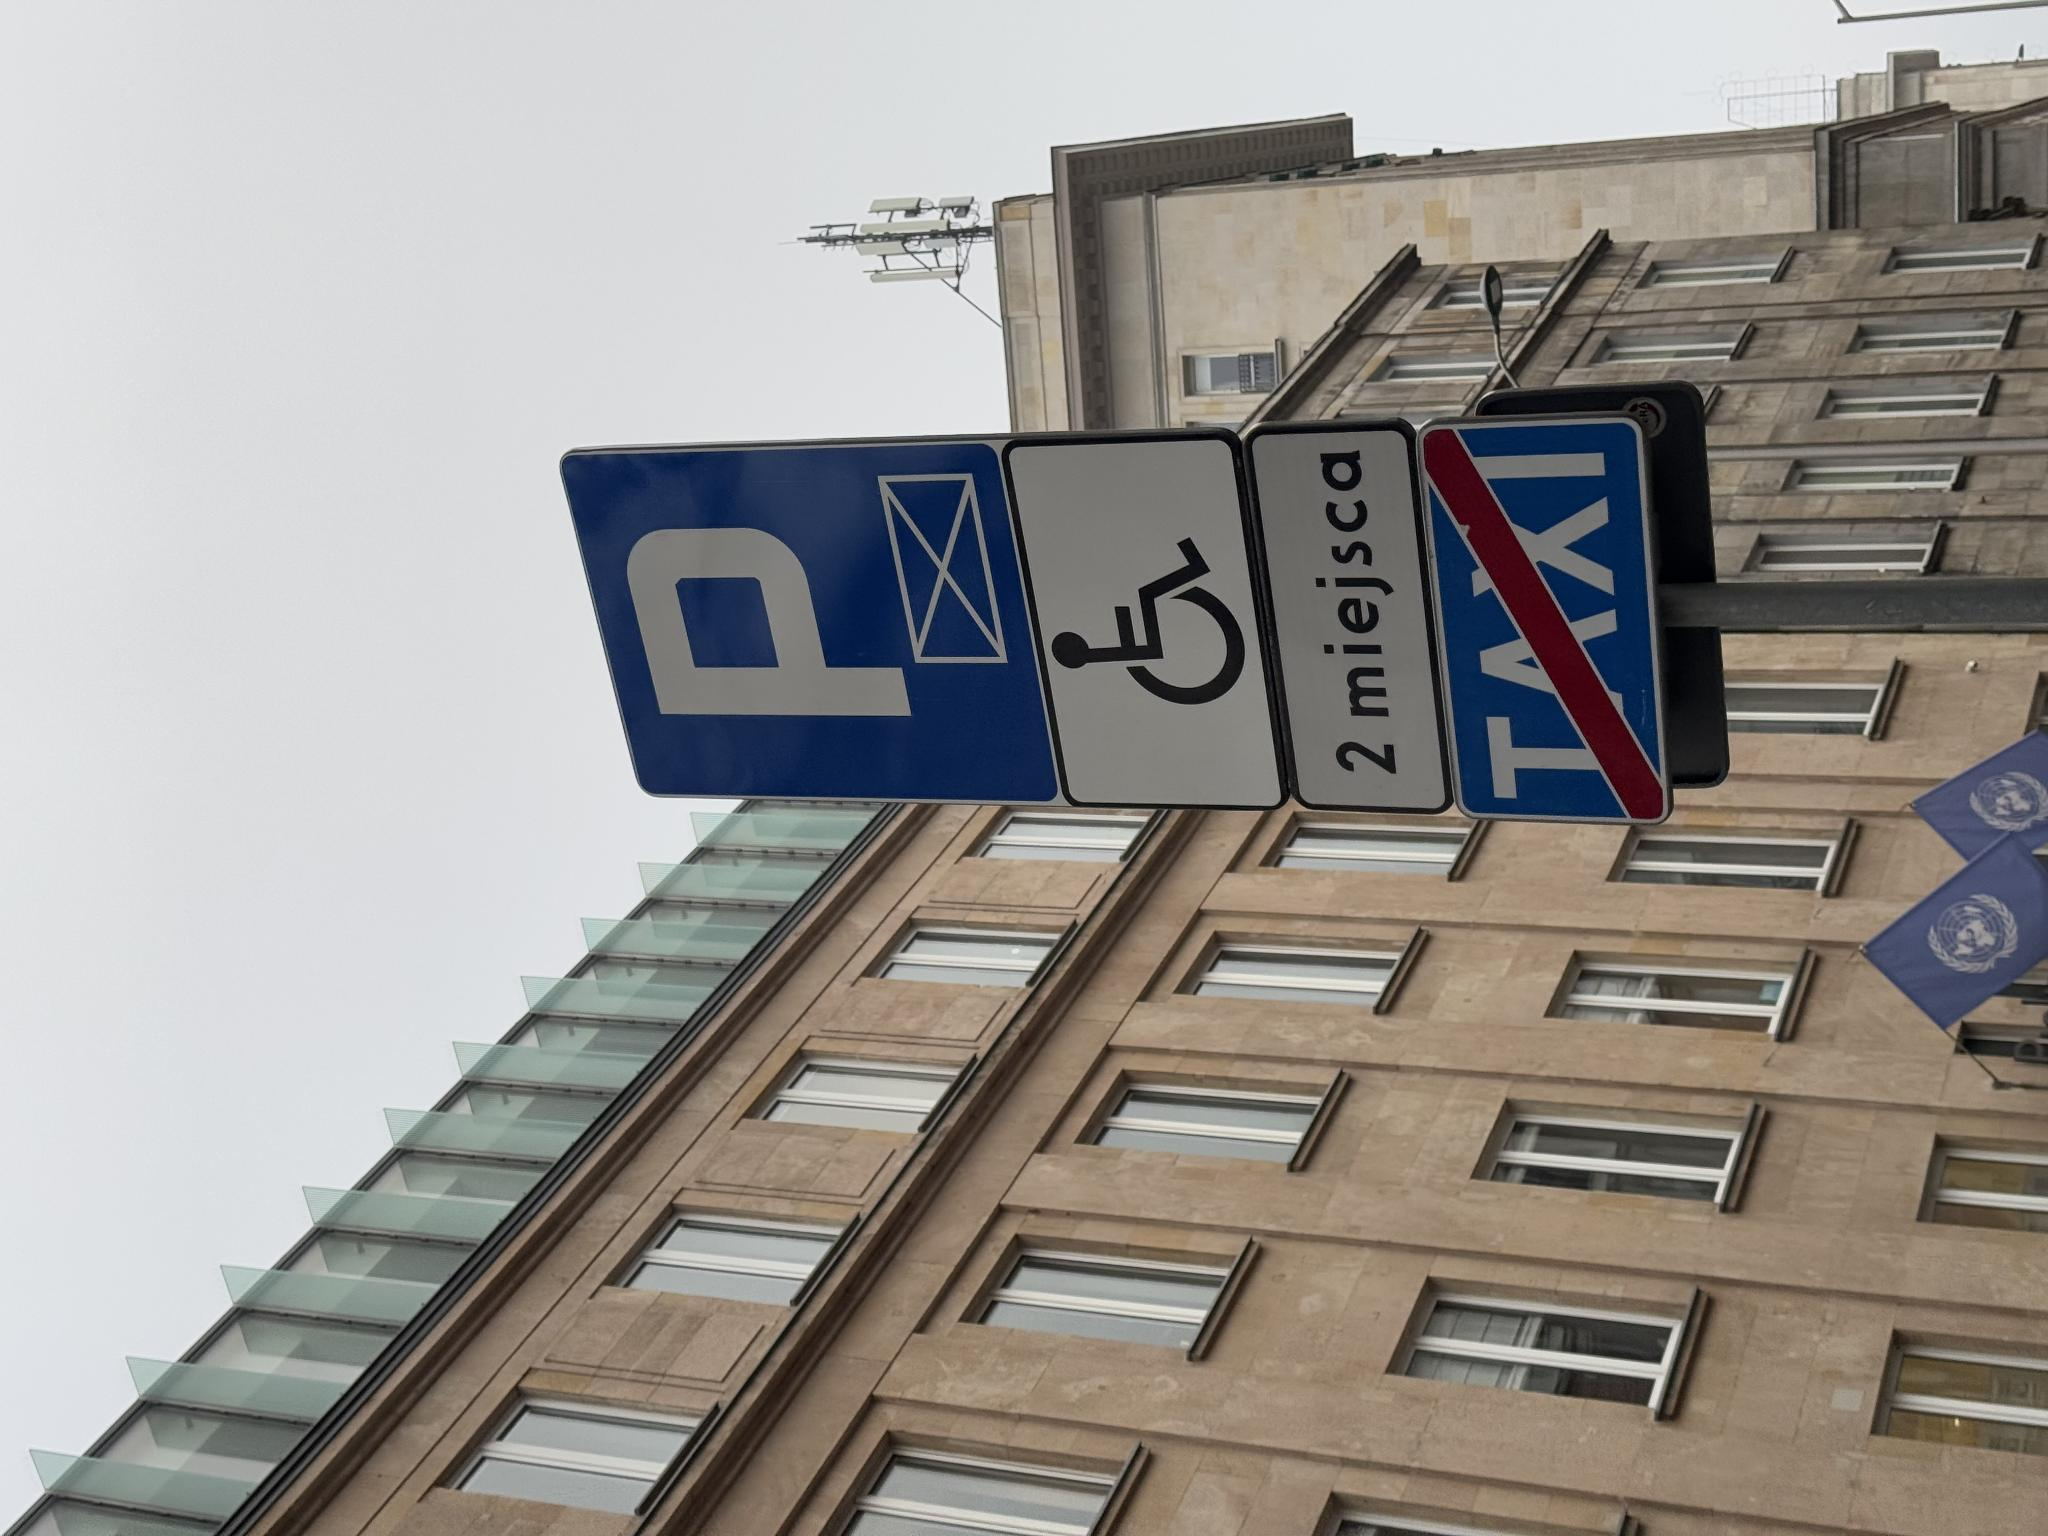information: (727, 553, 1105, 1055), (698, 1423, 1127, 1536)
